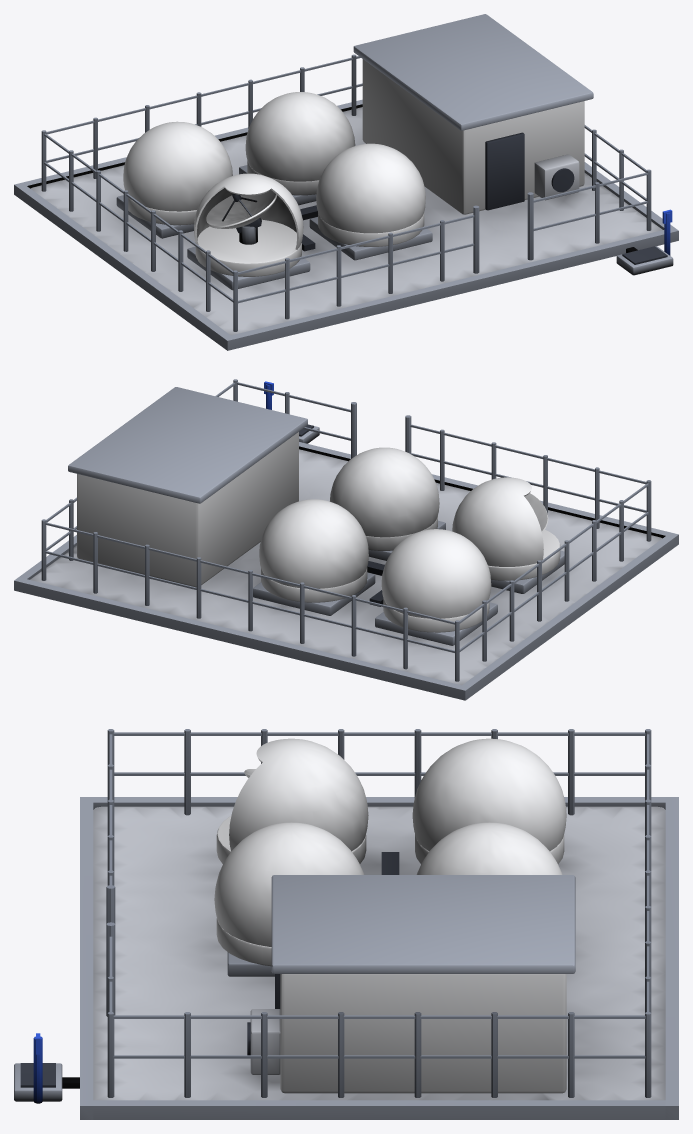
File: ground-station.envelope.glb
3 views of the same model, one above another, from view 1: azimuth 30°, elevation 25°; view 2: azimuth 150°, elevation 25°; view 3: azimuth 270°, elevation 25° (orthographic). The views are drawn at different scales.
Visible parts, largest first — view 1: ground-station.white, ground-station.mid, ground-station.light, ground-station.metal, ground-station.graphite; view 2: ground-station.white, ground-station.mid, ground-station.light, ground-station.metal; view 3: ground-station.light, ground-station.white, ground-station.mid, ground-station.metal, ground-station.graphite, ground-station.signal.
Part boxes in pixels (x1=…): ground-station.white: x1=123, y1=59, x2=584, y2=276; ground-station.mid: x1=14, y1=14, x2=678, y2=350; ground-station.light: x1=30, y1=107, x2=662, y2=335; ground-station.metal: x1=41, y1=54, x2=651, y2=331; ground-station.graphite: x1=232, y1=132, x2=667, y2=264; ground-station.white: x1=77, y1=432, x2=560, y2=632; ground-station.mid: x1=14, y1=387, x2=678, y2=700; ground-station.light: x1=30, y1=449, x2=662, y2=685; ground-station.metal: x1=41, y1=379, x2=651, y2=681; ground-station.light: x1=93, y1=806, x2=665, y2=1100; ground-station.white: x1=214, y1=738, x2=566, y2=1093; ground-station.mid: x1=14, y1=797, x2=678, y2=1119; ground-station.metal: x1=106, y1=729, x2=651, y2=1097; ground-station.graphite: x1=20, y1=852, x2=399, y2=1088; ground-station.signal: x1=33, y1=1033, x2=42, y2=1103.
Bounding box in the file's own units: 3.32 × 0.7299 × 3.02.
